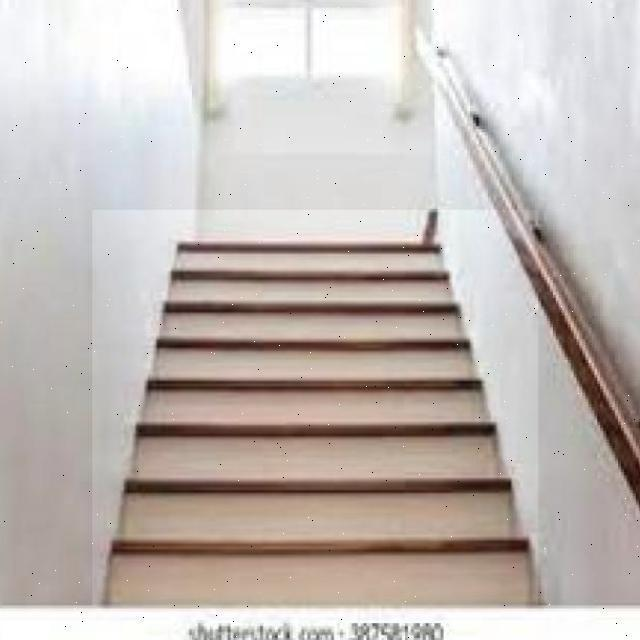stair: (92, 210, 538, 606)
